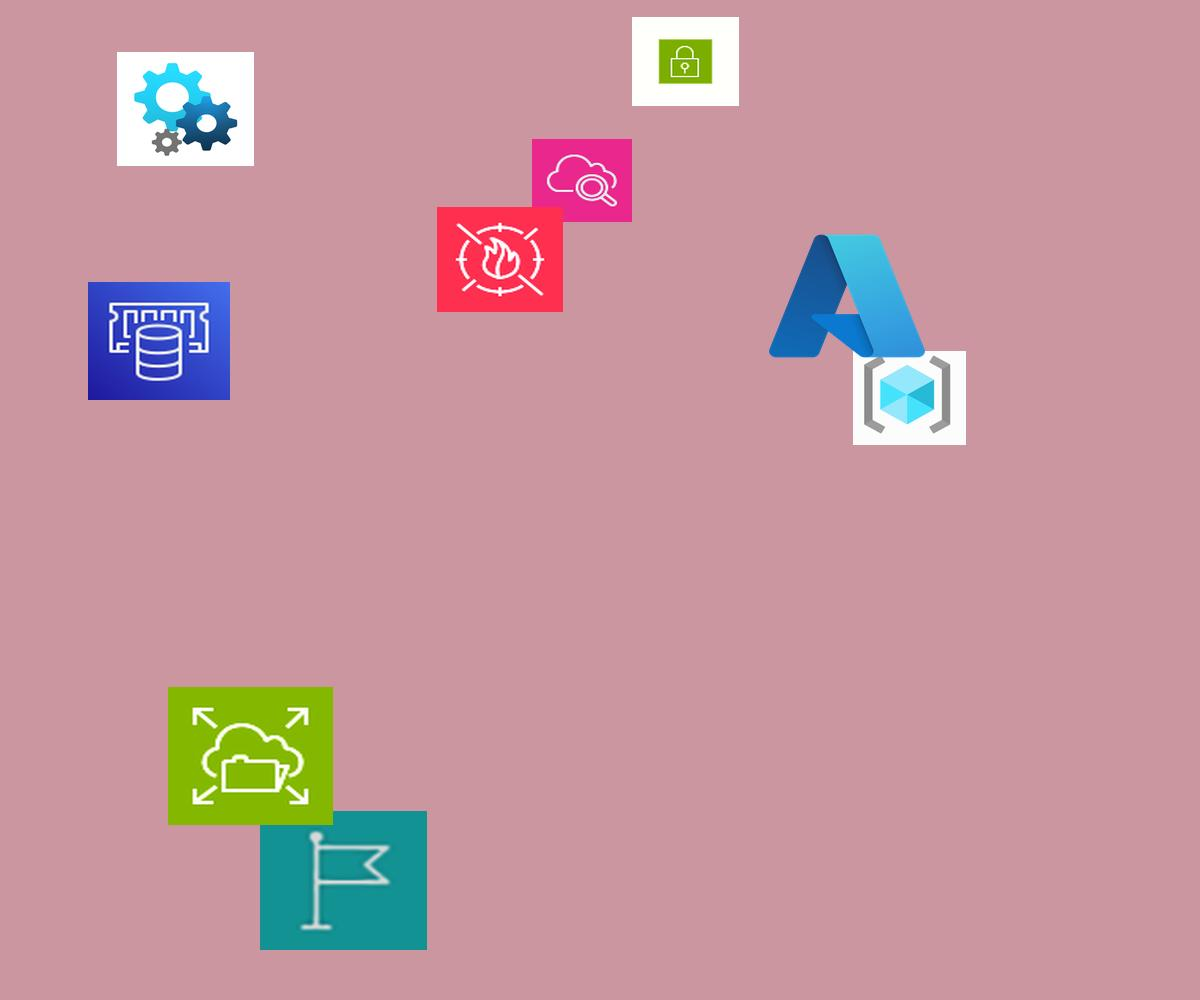AWS-CloudWatch: (532, 139, 632, 222)
AWS-EFS: (168, 687, 333, 825)
AWS-ElastiCache: (88, 282, 230, 400)
AWS-Public-subnet: (632, 17, 739, 106)
AWS-Region: (260, 811, 427, 950)
AWS-WAF: (437, 207, 563, 312)
Azure_api: (117, 52, 254, 166)
Azure_resource_group: (853, 351, 966, 445)
Azure_services: (762, 225, 932, 367)
